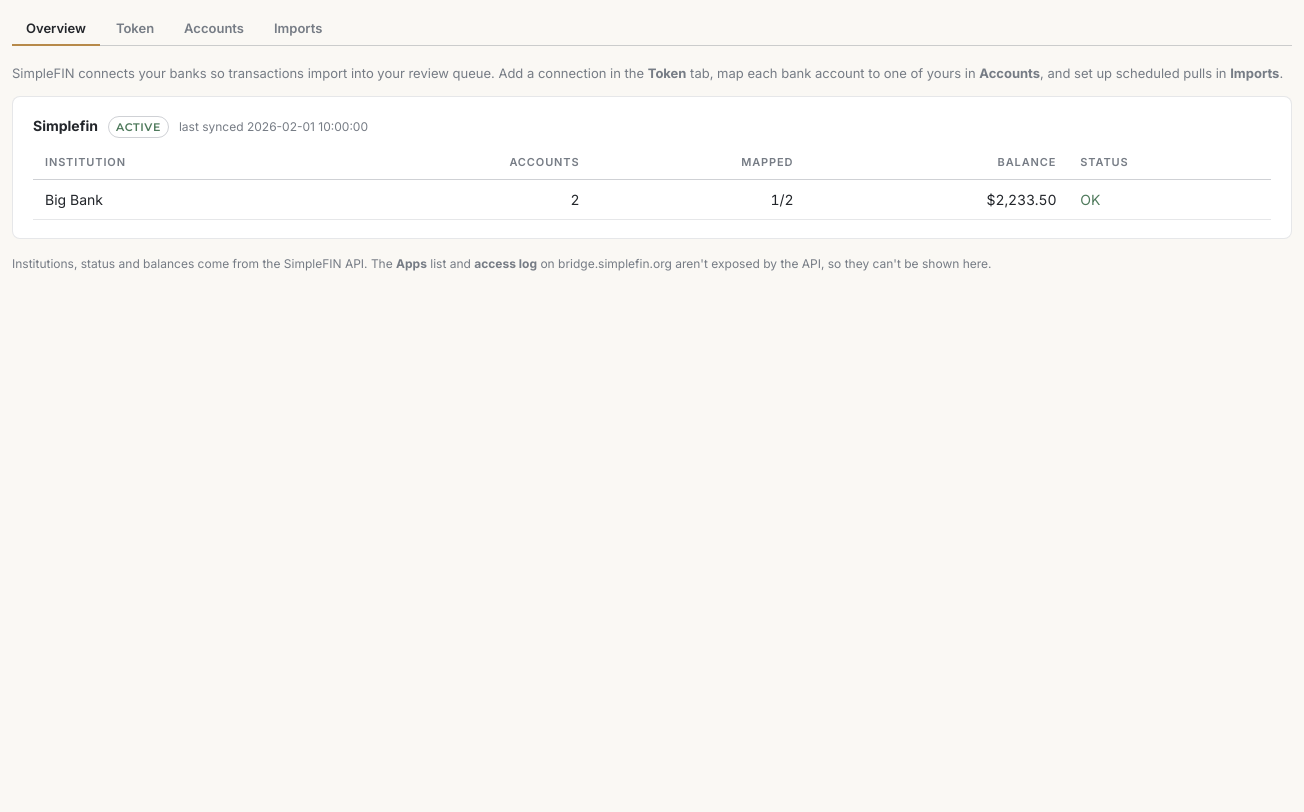
it: LinkedAccounts › refreshes a connection and streams progress + a done event
Expected: the text "Big Bank" is shown, [33,179,327,219]
Step 1. Click the button "Accounts" → (214, 29), box [170,12,258,46]
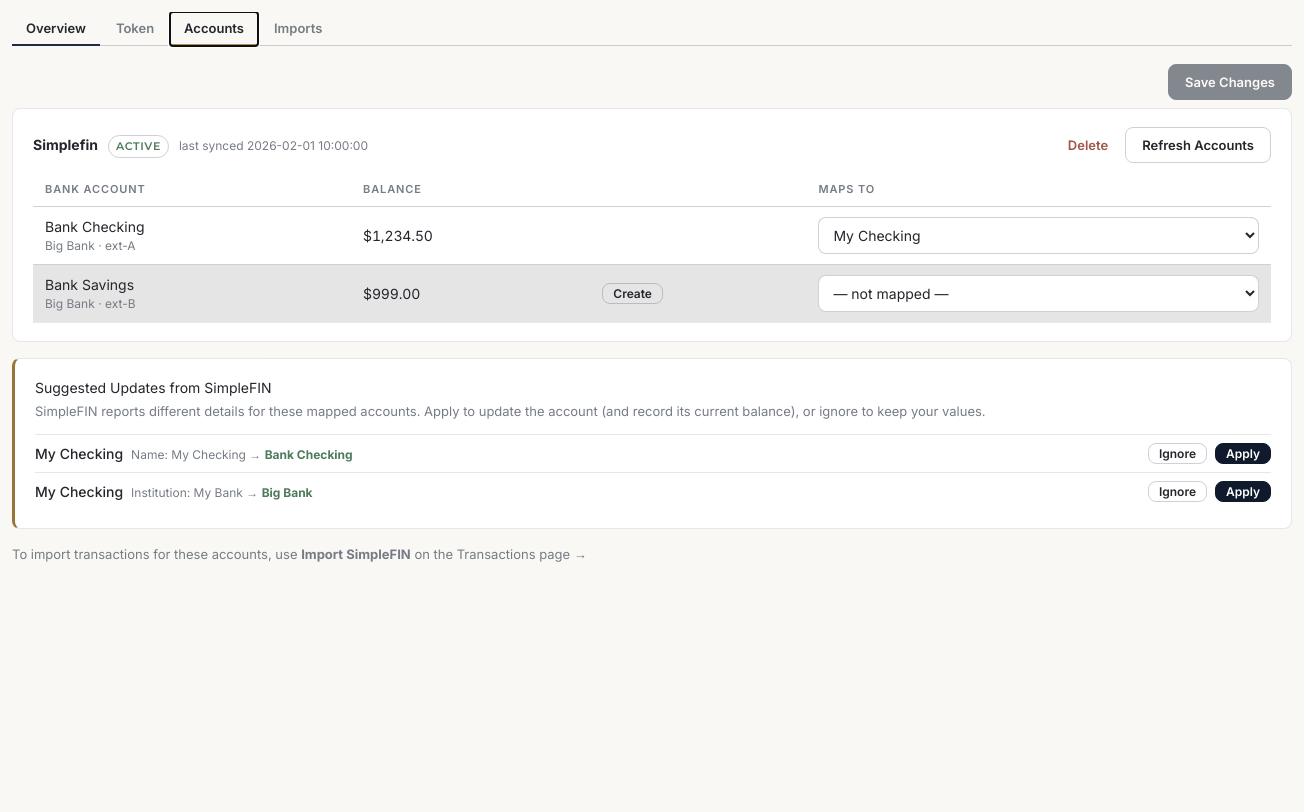
Step 2. Click the button "Refresh Accounts" → (1198, 145), box [1125,127,1271,163]
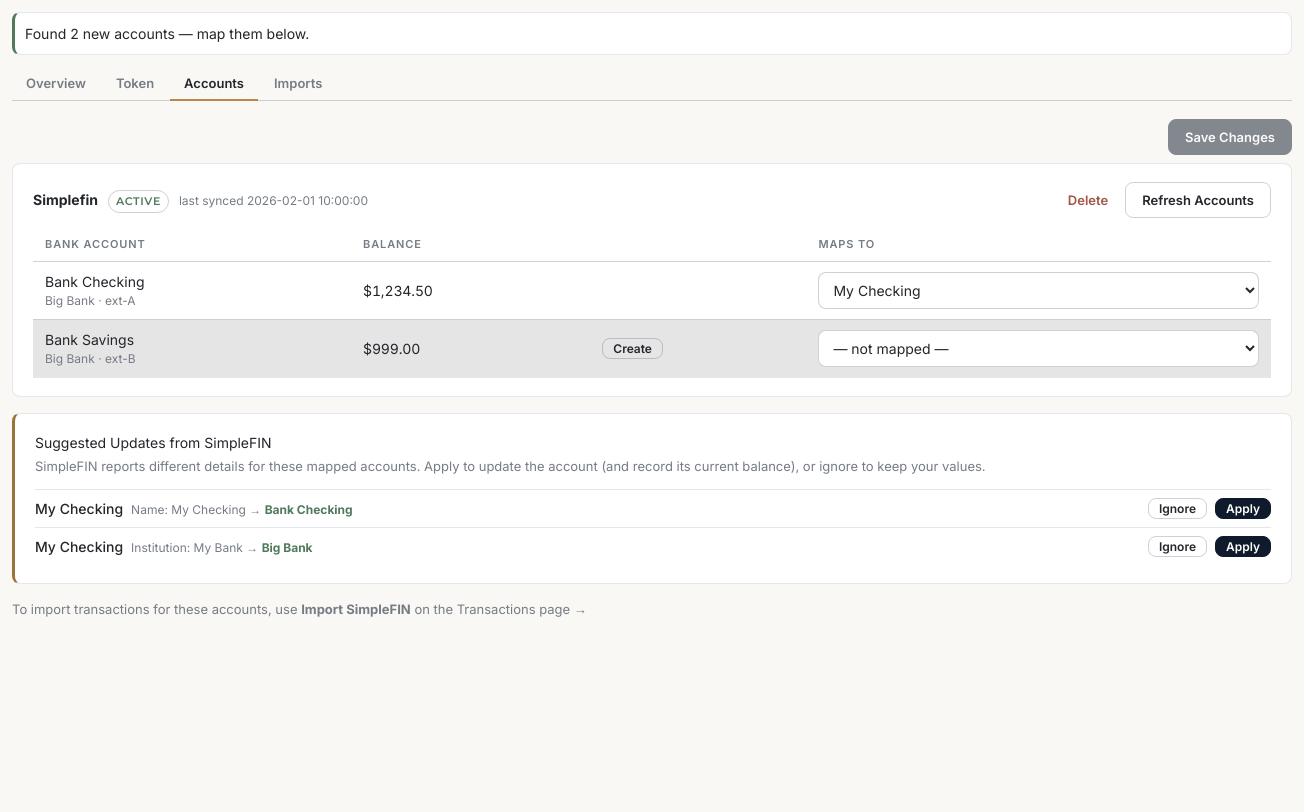
Expected: the text "Found 2 new accounts — map them below." is shown, [12,12,1292,55]
